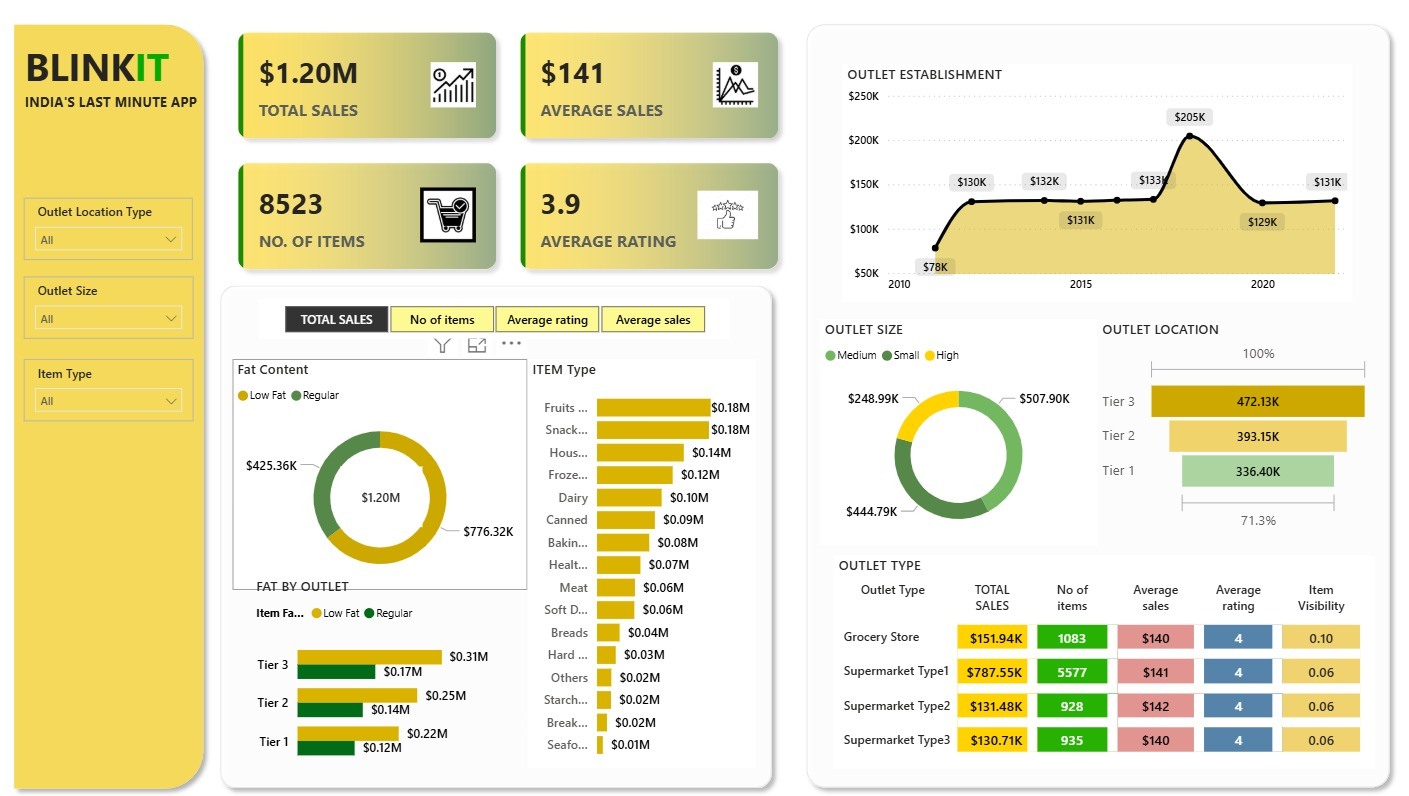

Layout of this report page (visuals, bound fields, positions):
{"tool":"powerbi","page":{"name":"Page 1","canvas":[1400,800],"ordinal":0},"visuals":[{"type":"shape","box":[9.9,26,205.3,774.3],"z":0},{"type":"textbox","box":[24.1,45.6,168.9,64.3],"z":1000},{"type":"textbox","box":[24.1,97.9,190.3,42.9],"z":2000},{"type":"cardVisual","fields":{"Data":["BlinkIT Grocery Data.TOTAL SALES","BlinkIT Grocery Data.Average sales","BlinkIT Grocery Data.No of items","BlinkIT Grocery Data.Average rating"]},"box":[223.9,25.5,569.7,269.4],"z":3000},{"type":"shape","box":[213.7,284.5,563.7,515.2],"z":4000},{"type":"donutChart","title":"Fat Content","fields":{"Y":["BlinkIT Grocery Data.TOTAL SALES"],"Category":["BlinkIT Grocery Data.Item Fat Content"]},"box":[234.6,365.7,292.3,229.4],"z":5000},{"type":"slicer","fields":{"Values":["Metrics.Metrics"]},"box":[260.4,306.1,465.5,39.5],"z":6000},{"type":"cardVisual","fields":{"Data":["BlinkIT Grocery Data.TOTAL SALES"]},"box":[340.8,471.9,81.3,60.3],"z":7000},{"type":"clusteredBarChart","title":"FAT BY OUTLET","fields":{"Y":["BlinkIT Grocery Data.TOTAL SALES"],"Category":["BlinkIT Grocery Data.Outlet Location Type"],"Series":["BlinkIT Grocery Data.Item Fat Content"]},"box":[253.4,581.8,239.9,198.4],"z":8000},{"type":"barChart","title":"ITEM Type","fields":{"Y":["BlinkIT Grocery Data.TOTAL SALES"],"Category":["BlinkIT Grocery Data.Item Type"]},"box":[527,365.7,225.5,405.1],"z":9000},{"type":"shape","box":[794.1,26,594.9,773],"z":10000},{"type":"lineChart","title":"OUTLET ESTABLISHMENT","fields":{"Category":["BlinkIT Grocery Data.Outlet Establishment Year"],"Y":["BlinkIT Grocery Data.TOTAL SALES"]},"box":[838.6,74.2,504.6,235],"z":11000},{"type":"donutChart","title":"OUTLET SIZE","fields":{"Y":["BlinkIT Grocery Data.TOTAL SALES"],"Category":["BlinkIT Grocery Data.Outlet Size"]},"box":[815.8,326.7,274.6,224.1],"z":12000},{"type":"funnel","title":"OUTLET LOCATION","fields":{"Y":["Sum(BlinkIT Grocery Data.Sales)"],"Category":["BlinkIT Grocery Data.Outlet Location Type"]},"box":[1090.4,326.7,274.6,214.6],"z":13000},{"type":"pivotTable","title":"OUTLET TYPE","fields":{"Rows":["BlinkIT Grocery Data.Outlet Type"],"Values":["BlinkIT Grocery Data.TOTAL SALES","BlinkIT Grocery Data.No of items","BlinkIT Grocery Data.Average sales","BlinkIT Grocery Data.Average rating","Avg(BlinkIT Grocery Data.Item Visibility)"]},"box":[829.8,559.7,534.8,211],"z":14000},{"type":"slicer","fields":{"Values":["BlinkIT Grocery Data.Outlet Location Type"]},"box":[28.4,206.7,167.3,61.5],"z":15000},{"type":"slicer","fields":{"Values":["BlinkIT Grocery Data.Outlet Size"]},"box":[28.8,284.5,167.8,61.6],"z":16000},{"type":"slicer","fields":{"Values":["BlinkIT Grocery Data.Item Type"]},"box":[28.8,365.7,167.8,61.6],"z":17000}]}

Visuals, with their boxes in screenshot pixels (x1, y1, x2, y2), scaled from the page's 1400x800 canvas onto the 1409x796 screenshot:
shape: x1=10, y1=26, x2=217, y2=795
textbox: x1=24, y1=45, x2=194, y2=109
textbox: x1=24, y1=97, x2=216, y2=140
cardVisual - BlinkIT Grocery Data.TOTAL SALES x BlinkIT Grocery Data.Average sales: x1=225, y1=25, x2=799, y2=293
shape: x1=215, y1=283, x2=782, y2=795
"Fat Content" donutChart: x1=236, y1=364, x2=530, y2=592
slicer - Metrics.Metrics: x1=262, y1=305, x2=731, y2=344
cardVisual - BlinkIT Grocery Data.TOTAL SALES: x1=343, y1=470, x2=425, y2=530
"FAT BY OUTLET" clusteredBarChart: x1=255, y1=579, x2=496, y2=776
"ITEM Type" barChart: x1=530, y1=364, x2=757, y2=767
shape: x1=799, y1=26, x2=1398, y2=795
"OUTLET ESTABLISHMENT" lineChart: x1=844, y1=74, x2=1352, y2=308
"OUTLET SIZE" donutChart: x1=821, y1=325, x2=1097, y2=548
"OUTLET LOCATION" funnel: x1=1097, y1=325, x2=1374, y2=539
"OUTLET TYPE" pivotTable: x1=835, y1=557, x2=1373, y2=767
slicer - BlinkIT Grocery Data.Outlet Location Type: x1=29, y1=206, x2=197, y2=267
slicer - BlinkIT Grocery Data.Outlet Size: x1=29, y1=283, x2=198, y2=344
slicer - BlinkIT Grocery Data.Item Type: x1=29, y1=364, x2=198, y2=425
